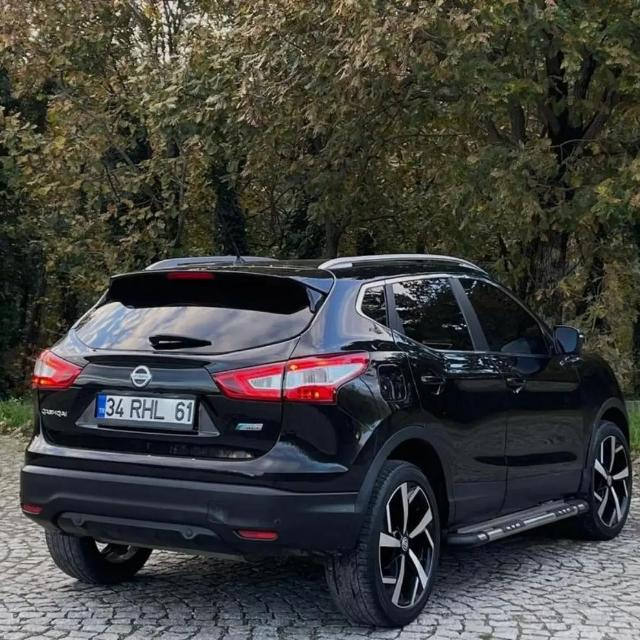Plaka: (97, 397, 195, 428)
